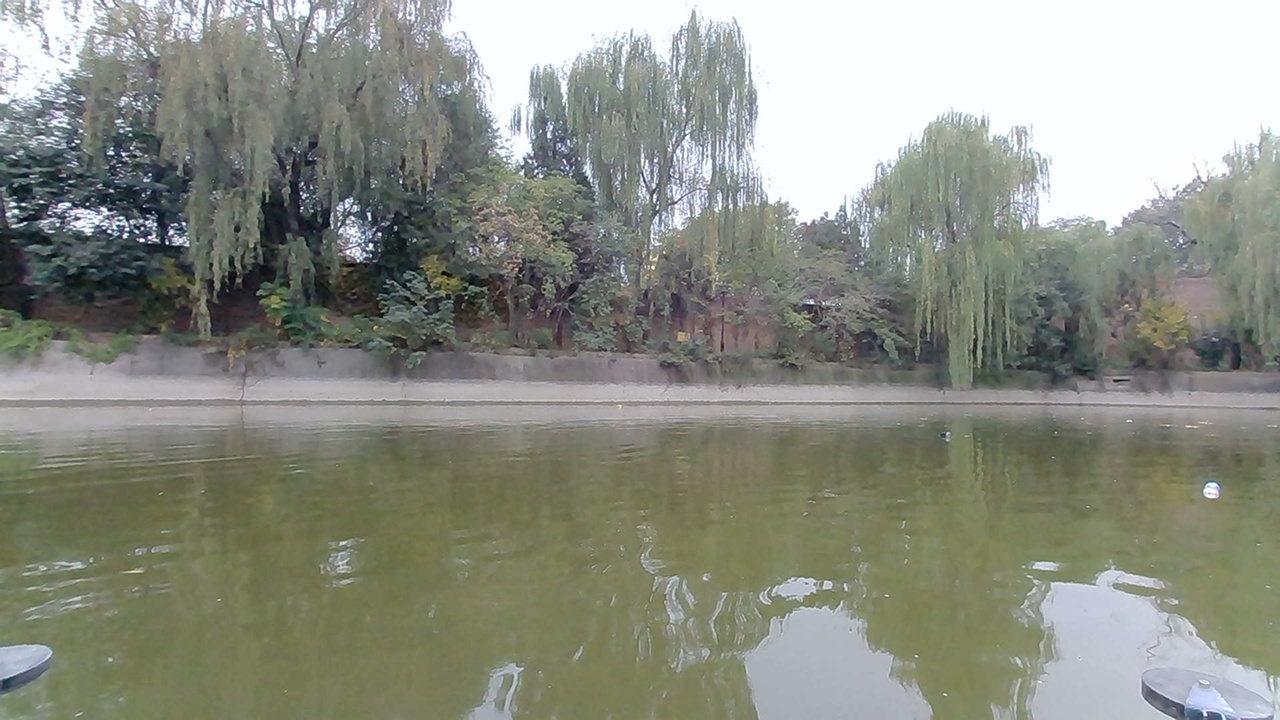bottle: (1193, 474, 1232, 503), (933, 423, 961, 449)
